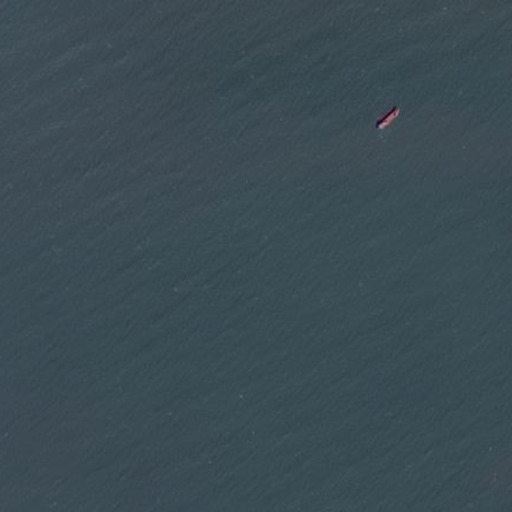ship: (374, 104, 404, 136)
